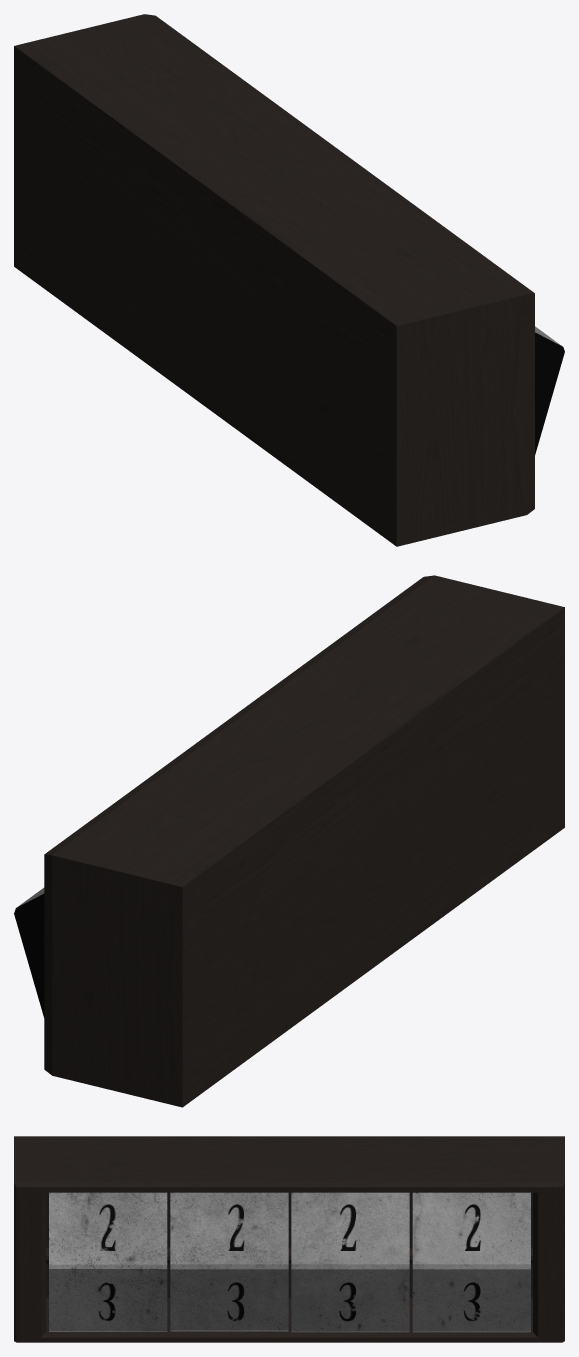
The model's file is FPH_RotatePuzzle.fbx.
3 renders of one model, top to bottom at view 1: azimuth 30°, elevation 25°; view 2: azimuth 150°, elevation 25°; view 3: azimuth 270°, elevation 25°, orthographic. The views are drawn at different scales.
Visible parts, largest first — view 1: FPH_RotatePuzzleCase, 1; view 2: FPH_RotatePuzzleCase, 4; view 3: FPH_RotatePuzzleCase, 3, 4, 2, 1.
Part boxes in pixels (x1=…): FPH_RotatePuzzleCase: x1=14, y1=14, x2=534, y2=546; 1: x1=535, y1=326, x2=564, y2=454; FPH_RotatePuzzleCase: x1=44, y1=575, x2=564, y2=1107; 4: x1=14, y1=887, x2=44, y2=1017; FPH_RotatePuzzleCase: x1=14, y1=1136, x2=564, y2=1342; 3: x1=291, y1=1192, x2=409, y2=1332; 4: x1=412, y1=1192, x2=530, y2=1332; 2: x1=170, y1=1192, x2=288, y2=1331; 1: x1=49, y1=1192, x2=167, y2=1331.
Size of the model in its own units: 0.4394 by 0.4816 by 1.51.
